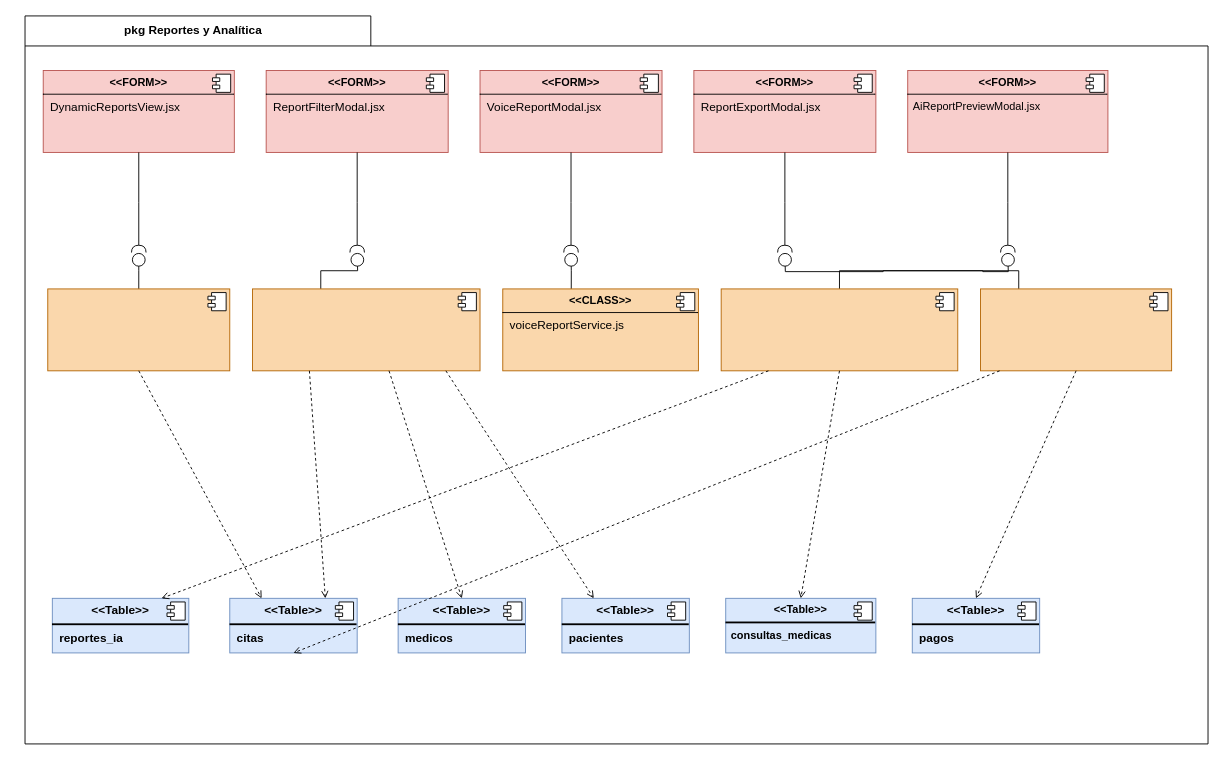
Image size: 1224x760. Some labels were removed from this diagram. The shapes that lost their labels are listed below. From the top down, each one's centre as x and y in pixels, then its label:
At pixel 138 329: "<<CLASS>> reportService.js".
At pixel 366 329: "<<CLASS>> DynamicReportQueryService.php".
At pixel 839 329: "<<CLASS>> AiReportInterpreterService.php".
At pixel 1076 329: "<<CLASS>> ReportExportService.php".
